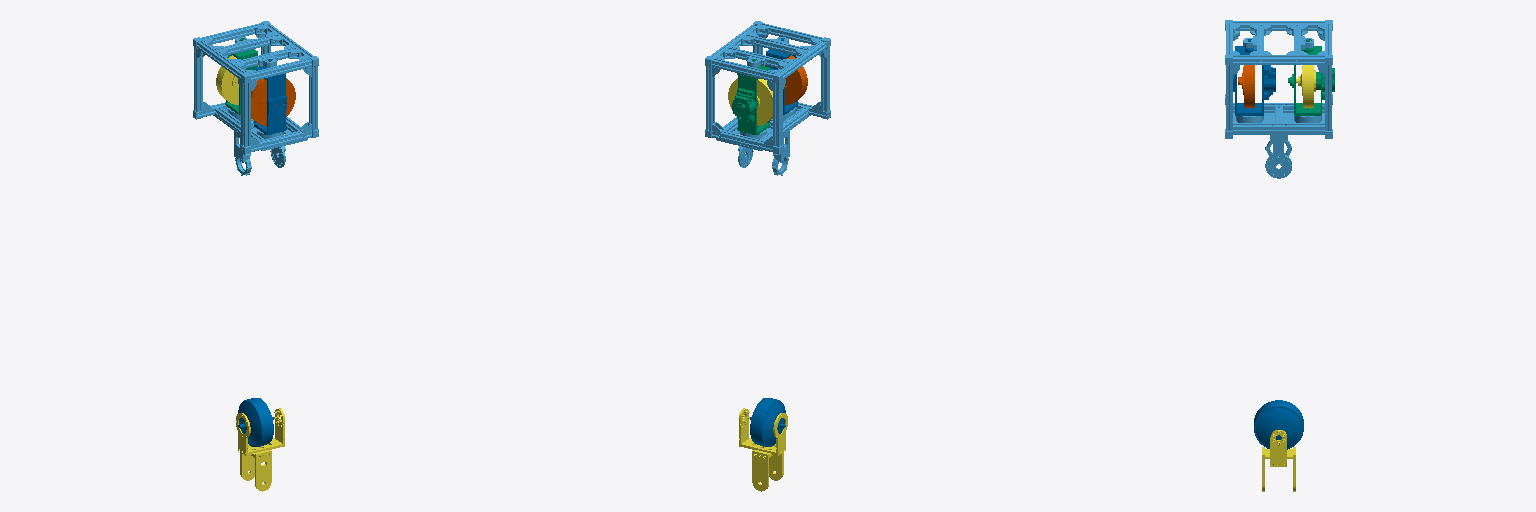
--- Render facts (derived) ---
Views: 3 orthographic renders of the robot side by side, from view 1: azimuth 30°, elevation 25°; view 2: azimuth 150°, elevation 25°; view 3: azimuth 270°, elevation 25°.
Model wheeled_inverted_pendulum with 13 links and 12 joints (8 revolute, 3 continuous, 1 fixed), rooted at cmg, posed every joint at zero.
Links seen in each view (by area): view 1: frame, ankle_to_wheel_link, wheel_link, Right_gimbal, Right_flywheel, Left_flywheel; view 2: frame, ankle_to_wheel_link, Left_gimbal, wheel_link, Left_flywheel, Right_flywheel; view 3: frame, wheel_link, Right_gimbal, ankle_to_wheel_link, Left_gimbal, Left_flywheel, Right_flywheel.
Link boxes in pixels (x1,y1,x2,y2): frame: (193, 21, 318, 175); ankle_to_wheel_link: (236, 408, 284, 491); wheel_link: (238, 398, 273, 446); Right_gimbal: (254, 59, 286, 134); Right_flywheel: (251, 78, 295, 125); Left_flywheel: (216, 55, 262, 104); frame: (705, 21, 830, 175); ankle_to_wheel_link: (739, 408, 787, 491); Left_gimbal: (732, 59, 769, 134); wheel_link: (750, 398, 785, 446); Left_flywheel: (728, 78, 772, 125); Right_flywheel: (761, 55, 807, 104); frame: (1225, 20, 1332, 178); wheel_link: (1254, 400, 1303, 449); Right_gimbal: (1233, 39, 1275, 115); ankle_to_wheel_link: (1262, 430, 1295, 491); Left_gimbal: (1288, 39, 1334, 115); Left_flywheel: (1296, 65, 1315, 107); Right_flywheel: (1238, 65, 1254, 107).
Bounding box of the posed robot: 0.2442 × 0.3 × 1.36 m (x, y, z).
Meshes: 12 distinct files referenced, 7 mesh visuals loaded (7 binary STL); not drawn: 5 (reference not matched to a file when rendering).

URDF robot description (wheeled_inverted_pendulum):
<?xml version="1.0"?>

<robot name="wheeled_inverted_pendulum">

        <link name="cmg">		    
		</link>

        <joint name="cmg_joint" type="fixed">
		    <origin xyz="0 0 1.114642" rpy="0.0 0.0 0.0" /> 
		    <parent link="cmg"/>
		    <child link="frame"/>
		</joint> 

        <link name="frame">
            <visual>
                <origin xyz="0.0 0 0" rpy="1.5708 0.0 0"/> <!--xyz="0.0 0.0 0.0" rpy="0 0.0 0" -->
                <geometry>
                    <mesh filename="package://cmg_robot_description/meshes/cmg_link.STL" scale="0.001 0.001 0.001"/>         
                </geometry>
                <material name=""/>
            </visual>

            <collision>
                <origin xyz="0 0 0" rpy="1.5708 0.0 0.0"/>
                <geometry>
                    <mesh filename="package://cmg_robot_description/meshes/cmg_link.STL" scale="0.001 0.001 0.001"/>
                </geometry>
            </collision>

            <inertial>
                <mass value="2.84" /> <!--20.781-->
                <origin xyz="0.0025633 1.1523E-05 -0.004142" rpy="1.5708 0.0 0"/>
                <inertia ixx="0.069831822" ixy="0.000002709"  ixz="0.001167158"  iyy="0.062838135"  iyz="0.000012214"  izz="0.037865996" />
            </inertial>
        </link>

<!-- ######################################################################################### -->

        <joint name="Left_gimbal_joint" type="revolute">
            <!-- <origin xyz="-0.000001 0.08 -0.0015" rpy="0 0 1.57"/> -->
            <origin xyz="0 0.08 0" rpy="0 0 0"/>
            <axis xyz="0 0 1" />
            <parent link="frame"/>
            <child link="Left_gimbal"/>            
            <limit effort="100" velocity="100" upper="0.785" lower="-0.785"/>
            <!-- <calibration falling="1.0"/> -->
            <joint_properties damping="1.0" friction="1.0"/>
        </joint>

<!-- ######################################################################################### -->

        <link name="Left_gimbal">
            <visual>
                <origin xyz="0.0 0.0 0.0" rpy="0 0.0 0"/> 
                <geometry>
                    <mesh filename="package://cmg_robot_description/meshes/left_gimbal_link.STL" scale="0.001 0.001 0.001"/>         
                </geometry>
                <material name=""/>
            </visual>
            <collision>
                <origin xyz="0 0 0" rpy="0.0 0.0 0.0"/>
                <geometry>
                    <mesh filename="package://cmg_robot_description/meshes/left_gimbal_link.STL" scale="0.001 0.001 0.001"/>        
                </geometry>
            </collision>
            <inertial>
                <mass value="1" />
                <origin xyz="0 0 0" />
                <inertia ixx="0.003773117" ixy="0" ixz="0" iyy="0.003989672" iyz="0" izz="0.00061837"/>
            </inertial>
        </link>

<!-- ######################################################################################### -->

         <joint name="Left_flywheel_joint" type="continuous">
            <origin xyz="0 0 0" rpy="0 0 0"/>
            <axis xyz="0 1 0" />
            <parent link="Left_gimbal"/>
            <child link="Left_flywheel"/>
            <limit effort="100" velocity="1000"/>
            <joint_properties damping="0.0" friction="0.0"/>
        </joint>

<!-- ######################################################################################### -->

        <link name="Left_flywheel">
            <visual>
                <origin xyz="0 0 0" rpy="0 0 0" />
                <geometry>
                    <mesh filename="package://cmg_robot_description/meshes/left_flywheel_link.STL" scale="0.001 0.001 0.001" />
                </geometry>
                <material name=""/>
            </visual>

            <collision>
                <geometry>
                    <mesh filename="package://cmg_robot_description/meshes/left_flywheel_link.STL" scale="0.001 0.001 0.001" />
                </geometry>
            </collision>

            <inertial>
                <mass value="4" />
                <origin xyz="0 0 0" />
                <inertia ixx="0.005950" ixy="0" ixz="0" iyy="0.011299999" iyz="0" izz="0.005950"/>
            </inertial>
        </link>

<!-- ######################################################################################### -->

        <joint name="Right_gimbal_joint" type="revolute">            
            <origin xyz="0 -0.08 0" rpy="0 0 0"/>
            <axis xyz="0 0 1" />
            <parent link="frame"/>
            <child link="Right_gimbal"/>            
            <limit effort="100" velocity="100" upper="0.785" lower="-0.785"/>
            <joint_properties damping="1.0" friction="1.0"/>
        </joint>

<!-- ######################################################################################### -->

        <link name="Right_gimbal">
            <visual>
                <origin xyz="0.0 0.0 0.0" rpy="0 0.0 0"/> 
                <geometry>
                    <mesh filename="package://cmg_robot_description/meshes/right_gimbal_link.STL" scale="0.001 0.001 0.001"/>         
                </geometry>
                <material name=""/>
            </visual>
            <collision>
                <origin xyz="0 0 0" rpy="0.0 0.0 0.0"/>
                <geometry>
                    <mesh filename="package://cmg_robot_description/meshes/right_gimbal_link.STL" scale="0.001 0.001 0.001"/>        
                </geometry>
            </collision>
            <inertial>
                <mass value="1" />
                <origin xyz="0 0 0" />
                <inertia ixx="0.003773117" ixy="0" ixz="0" iyy="0.003989672" iyz="0" izz="0.00061837"/>
            </inertial>
        </link>

<!-- ######################################################################################### -->

        <joint name="Right_flywheel_joint" type="continuous">
            <origin xyz="0 0 0" rpy="0 0 0"/>
            <axis xyz="0 1 0" />
            <parent link="Right_gimbal"/>
            <child link="Right_flywheel"/>
            <limit effort="100" velocity="1000"/>
            <joint_properties damping="0.0" friction="0.0"/>
        </joint>

<!-- ######################################################################################### -->

        <link name="Right_flywheel">
            <visual>
                <origin xyz="0 0 0" rpy="0 0 0" />
                <geometry>
                    <mesh filename="package://cmg_robot_description/meshes/right_flywheel_link.STL" scale="0.001 0.001 0.001" />
                </geometry>
                <material name=""/>
            </visual>

            <collision>
                <geometry>
                    <mesh filename="package://cmg_robot_description/meshes/right_flywheel_link.STL" scale="0.001 0.001 0.001" />
                </geometry>
            </collision>

            <inertial>
                <mass value="4" />
                <origin xyz="0 0 0" />
                <inertia ixx="0.005950" ixy="0" ixz="0" iyy="0.011299999" iyz="0" izz="0.005950"/>
            </inertial>
        </link>
        
<!-- ######################################################################################### -->

        <joint name="hip_roll_joint" type="revolute">
            <origin xyz="0 0 -0.221" rpy="0 0 0"/>
            <parent link="frame"/>
            <child link="hip_link"/>
            <axis xyz="1 0 0"/>
            <limit effort="100" velocity="100" upper="0.785" lower="-0.785"/>
            <joint_properties damping="1.0" friction="1.0"/>
        </joint>

        <link name="hip_link">
            <visual>
                <origin xyz="-0.042455 0 0" rpy="3.14 0 0"/> 
                <geometry>
                    <mesh filename="package://cmg_robot_description/meshes/hip_link.STL" scale="0.001 0.001 0.001"/>         
                </geometry>
                <material name=""/>
            </visual>

            <collision>
                <origin xyz="-0.042455 0 0" rpy="3.14 0 0"/>
                <geometry>
                    <!-- <box size = "  0.127 0.168778 0.958442 "/>                     -->
                    <mesh filename="package://cmg_robot_description/meshes/hip_link.STL" scale="0.001 0.001 0.001"/>
                </geometry>
            </collision>

            <inertial>
                <mass value="3.325" /> 
                <origin xyz="0.056364 0.0061248 0.011176" rpy="3.14 0.0 0"/>
                <inertia ixx="0.006208194" ixy="0.000396490"  ixz="-0.000685512"  iyy="0.006554912"  iyz="-0.000658520" izz="0.006773627" />
            </inertial>
        </link>

<!-- ######################################################################################### -->

        <joint name="hip_pitch_joint" type="revolute">
		    <!-- <origin xyz="0 -0.0045 -0.451221" rpy="0.0 0.0 0.0" />  -->
		    <origin xyz="0 0 0" rpy="0.0 0.0 0.0" /> 
            <axis xyz="0 1 0"/>
		    <parent link="hip_link"/>
		    <child link="hip_to_knee_link" />
            <limit effort="100" velocity="100" upper="0.785" lower="-0.785"/>
            <joint_properties damping="1.0" friction="1.0"/>
		</joint> 

        <link name="hip_to_knee_link">
            <visual>
                <origin xyz="0.0 0.0665 0" rpy="3.14 0 0"/> 
                <geometry>
                    <mesh filename="package://cmg_robot_description/meshes/hip_to_knee_link.STL" scale="0.001 0.001 0.001"/>         
                </geometry>
                <material name=""/>
                    
            </visual>

            <collision>
                <origin xyz="0 0.0665 0.0" rpy="3.14 0 0"/>
                <geometry>
                    <!-- <box size = "  0.127 0.168778 0.958442 "/>                     -->
                    <mesh filename="package://cmg_robot_description/meshes/hip_to_knee_link.STL" scale="0.001 0.001 0.001"/>
                </geometry>
            </collision>

            <inertial>
                <mass value="2.175" /> 
                <origin xyz="0.023173 0 -0.14958" rpy="3.14 0.0 0"/>
                <inertia ixx="0.007175717" ixy="0.000086944"  ixz="0.000249192"  iyy="0.006609551"  iyz="-0.000206119" izz="0.002458394" />
            </inertial>
        </link> 
<!-- ######################################################################################### -->

        <joint name="knee_joint" type="revolute">
		    <origin xyz="0 0 -0.28" rpy="0.0 0.0 0.0" /> 
            <axis xyz="0 1 0"/>
		    <parent link="hip_to_knee_link"/>
		    <child link="knee_ankle_link" />
            <limit effort="100" velocity="100" upper="0.785" lower="-0.785"/>
            <joint_properties damping="1.0" friction="1.0"/>
		</joint> 

        <link name="knee_ankle_link">
            <visual>
                <origin xyz="0.000045 -0.059 0" rpy="3.14 0 0"/> 
                <geometry>
                    <mesh filename="package://cmg_robot_description/meshes/knee_to_ankle_pitch_link.STL" scale="0.001 0.001 0.001"/>         
                </geometry>
                <material name=""/>
                    
            </visual>

            <collision>
                <origin xyz="0.000045 -0.059 0" rpy="3.14 0 0"/>
                <geometry>
                    <!-- <box size = "  0.127 0.168778 0.958442 "/>                     -->
                    <mesh filename="package://cmg_robot_description/meshes/knee_to_ankle_pitch_link.STL" scale="0.001 0.001 0.001"/>
                </geometry>
            </collision>

            <inertial>
                <mass value="1.231" /> 
                <origin xyz="0.015126 0 -0.12016" rpy="3.14 0.0 0"/>
                <inertia ixx="0.008859306" ixy="0.000111937"  ixz="0.000678647"  iyy="0.008343955"  iyz="-0.000413906" izz="0.002077894" />
            </inertial>
        </link> 
<!-- ######################################################################################### -->

        <joint name="ankle_pitch_joint" type="revolute">
		    <origin xyz="0 0 -0.279942" rpy="0.0 0.0 0.0" /> 
            <axis xyz="0 1 0"/>
		    <parent link="knee_ankle_link"/>
		    <child link="ankle_pitch_roll_link" />
            <limit effort="100" velocity="100" upper="0.785" lower="-0.785"/>
            <joint_properties damping="1.0" friction="1.0"/>
		</joint> 

        <link name="ankle_pitch_roll_link">
            <visual>
                <origin xyz="0.0 0.0 0.0" rpy="3.14 0 0"/> 
                <geometry>
                    <mesh filename="package://cmg_robot_description/meshes/ankle_roll_link.STL" scale="0.001 0.001 0.001"/>         
                </geometry>
                <material name=""/>
                    
            </visual>

            <collision>
                <origin xyz="0 0 0" rpy="3.14 0 0"/>
                <geometry>
                    <!-- <box size = "  0.127 0.168778 0.958442 "/>                     -->
                    <mesh filename="package://cmg_robot_description/meshes/ankle_roll_link.STL" scale="0.001 0.001 0.001"/>
                </geometry>
            </collision>

            <inertial>
                <mass value="2.386" /> 
                <origin xyz="0.014548 0.005687 -0.0068274" rpy="3.14 0.0 0"/>
                <inertia ixx="0.003950987" ixy="0.000238179"  ixz="0.000315902"  iyy="0.004226334"  iyz="0.000351372" izz="0.004633548" />
            </inertial>
        </link> 

        
<!-- ######################################################################################### -->

        <joint name="ankle_roll_joint" type="revolute">
		    <!-- <origin xyz="0 -0.0045 -0.451221" rpy="0.0 0.0 0.0" />  -->
		    <origin xyz="0 0 0" rpy="0.0 0.0 0.0" /> 
            <axis xyz="1 0 0"/>
		    <parent link="ankle_pitch_roll_link"/>
		    <child link="ankle_roll_yaw_link" />
            <limit effort="100" velocity="100" upper="0.785" lower="-0.785"/>
            <joint_properties damping="1.0" friction="1.0"/>
		</joint> 

        <link name="ankle_roll_yaw_link">
            <visual>
                <origin xyz="0.0825 0.0 0.0" rpy="3.14 0 0"/> 
                <geometry>
                    <mesh filename="package://cmg_robot_description/meshes/ankle_yaw_link.STL" scale="0.001 0.001 0.001"/>         
                </geometry>
                <material name=""/>
            </visual>

            <collision>
                <origin xyz="0.0825 0 0" rpy="3.14 0 0"/>
                <geometry>
                    <!-- <box size = "  0.127 0.168778 0.958442 "/>                     -->
                    <mesh filename="package://cmg_robot_description/meshes/ankle_yaw_link.STL" scale="0.001 0.001 0.001"/>
                </geometry>
            </collision>

            <inertial>
                <mass value="1.325" /> 
                <origin xyz="-0.027885 -7.8167E-05 -0.093558" rpy="1.57 0 1.57"/>
                <inertia ixx="0.004491154" ixy="0.000005564"  ixz="0.000003285"  iyy="0.002633972"  iyz="0.000397982" izz="0.002356447" />
            </inertial>
        </link> 

<!-- ######################################################################################### -->

        <joint name="ankle_yaw_joint" type="revolute">
		    <!-- <origin xyz="0 -0.0045 -0.451221" rpy="0.0 0.0 0.0" />  -->
		    <origin xyz="0 0 -0.1675" rpy="0.0 0.0 0.0" /> 
            <axis xyz="0 0 1"/>
		    <parent link="ankle_roll_yaw_link"/>
		    <child link="ankle_to_wheel_link" />
            <limit effort="100" velocity="100" upper="0.785" lower="-0.785"/>
            <joint_properties damping="1.0" friction="1.0"/>
		</joint> 

        <link name="ankle_to_wheel_link">
            <visual>
                <origin xyz="0.0 0.0 -0.09" rpy="0 0 0"/> 
                <geometry>
                    <mesh filename="package://cmg_robot_description/meshes/ankle_to_wheel_link.STL" scale="0.001 0.001 0.001"/>         
                </geometry>
                <material name=""/>
            </visual>

            <collision>
                <origin xyz="0 0 -0.09" rpy="0 0 0"/>
                <geometry>
                    <!-- <box size = "  0.127 0.168778 0.958442 "/>                     -->
                    <mesh filename="package://cmg_robot_description/meshes/ankle_to_wheel_link.STL" scale="0.001 0.001 0.001"/>
                </geometry>
            </collision>

            <inertial>
                <mass value="0.758" /> 
                <origin xyz="0 0 0" rpy="0.0 0.0 0"/>
                <inertia ixx="0.002298182" ixy="0.0"  ixz="0.0"  iyy="0.001121639"  iyz="-0.0" izz="0.001482959" />
            </inertial>
        </link>

<!-- ######################################################################################### -->

        <joint name="wheel_joint" type="continuous">
		    <!-- <origin xyz="0 -0.0045 -0.451221" rpy="0.0 0.0 0.0" />  -->
		    <origin xyz="0 0 -0.09" rpy="0.0 0.0 0.0" /> 
            <axis xyz="0 1 0"/>
		    <parent link="ankle_to_wheel_link"/>
		    <child link="wheel_link" />
            <limit effort="100" velocity="1000"/>
            <joint_properties damping="1.0" friction="1.0"/>
		</joint>

         <link name="wheel_link">
            <visual>
                <origin xyz="0.0 0.0 0.0" rpy="0 0.0 1.57"/> 
                <geometry>
                    <mesh filename="package://cmg_robot_description/meshes/wheel_link.STL" scale="0.001 0.001 0.001"/>         
                </geometry>
                <material name=""/>
            </visual>

            <collision>                
                <origin xyz="0 0 0" rpy="0 0.0 1.57"/>
                <geometry>
                    <mesh filename="package://cmg_robot_description/meshes/wheel_link.STL" scale="0.001 0.001 0.001"/>                 
                </geometry>
            </collision>

            <inertial>
                <mass value="2.0" />
                <origin xyz="0 0 0" />
                <inertia ixx="0.003623375" ixy="0.0" ixz="0.0" iyy="0.006512625" iyz="0.0" izz="0.003623375"/>
            </inertial>
        </link> 

<!-- ######################################################################################### -->

        <gazebo reference="frame">
            <mu1>1.0</mu1>
            <mu2>1.0</mu2> 
            <kp>1e+13</kp>
            <kd>1.0</kd>
            <maxVel>0.001</maxVel>
            <minDepth>0.00000000001</minDepth>
            <turnGravityOff>false</turnGravityOff>
            <gravity>1</gravity>
            <material>Gazebo/Grey</material>
        </gazebo>

        <gazebo reference="Left_gimbal">
            <mu1>1.0</mu1>
            <mu2>1.0</mu2> 
            <kp>1e+13</kp>
            <kd>1.0</kd>
            <maxVel>0.001</maxVel>
            <minDepth>0.00000000001</minDepth>
            <turnGravityOff>false</turnGravityOff>
            <gravity>1</gravity>
            <material>Gazebo/Grey</material>
        </gazebo>

        <gazebo reference="Left_flywheel">
            <mu1>1.0</mu1>
            <mu2>1.0</mu2> 
            <kp>1e+13</kp>
            <kd>1.0</kd>
            <maxVel>0.001</maxVel>
            <minDepth>0.00000000001</minDepth>
            <turnGravityOff>false</turnGravityOff>
            <gravity>1</gravity>
            <material>Gazebo/White</material>
        </gazebo>


        <gazebo reference="Right_gimbal">
            <mu1>1.0</mu1>
            <mu2>1.0</mu2> 
            <kp>1e+13</kp>
            <kd>1.0</kd>
            <maxVel>0.001</maxVel>
            <minDepth>0.00000000001</minDepth>
            <turnGravityOff>false</turnGravityOff>
            <gravity>1</gravity>
            <material>Gazebo/Grey</material>
        </gazebo>

        <gazebo reference="Right_flywheel">
            <mu1>1.0</mu1>
            <mu2>1.0</mu2> 
            <kp>1e+13</kp>
            <kd>1.0</kd>
            <maxVel>0.001</maxVel>
            <minDepth>0.00000000001</minDepth>
            <turnGravityOff>false</turnGravityOff>
            <gravity>1</gravity>
            <material>Gazebo/White</material>
        </gazebo>


<!-- ######################################################################################### -->

        <gazebo reference="hip_link">
            <mu1>1.0</mu1>
            <mu2>1.0</mu2> 
            <kp>1e+13</kp>
            <kd>1.0</kd>
            <maxVel>0.001</maxVel>
            <minDepth>0.00000000001</minDepth>
            <turnGravityOff>false</turnGravityOff>
            <gravity>1</gravity>
            <material>Gazebo/Grey</material>
        </gazebo>

        <gazebo reference="hip_to_knee_link">
            <mu1>1.0</mu1>
            <mu2>1.0</mu2> 
            <kp>1e+13</kp>
            <kd>1.0</kd>
            <maxVel>0.001</maxVel>
            <minDepth>0.00000000001</minDepth>
            <turnGravityOff>false</turnGravityOff>
            <gravity>1</gravity>
            <material>Gazebo/Grey</material>
        </gazebo>

        <gazebo reference="knee_ankle_link">
            <mu1>1.0</mu1>
            <mu2>1.0</mu2> 
            <kp>1e+13</kp>
            <kd>1.0</kd>
            <maxVel>0.001</maxVel>
            <minDepth>0.00000000001</minDepth>
            <turnGravityOff>false</turnGravityOff>
            <gravity>1</gravity>
            <material>Gazebo/Grey</material>
        </gazebo>

        <gazebo reference="ankle_pitch_roll_link">
            <mu1>1.0</mu1>
            <mu2>1.0</mu2> 
            <kp>1e+13</kp>
            <kd>1.0</kd>
            <maxVel>0.001</maxVel>
            <minDepth>0.00000000001</minDepth>
            <turnGravityOff>false</turnGravityOff>
            <gravity>1</gravity>
            <material>Gazebo/Grey</material>
        </gazebo>

        <gazebo reference="ankle_roll_yaw_link">
            <mu1>1.0</mu1>
            <mu2>1.0</mu2> 
            <kp>1e+13</kp>
            <kd>1.0</kd>
            <maxVel>0.001</maxVel>
            <minDepth>0.00000000001</minDepth>
            <turnGravityOff>false</turnGravityOff>
            <gravity>1</gravity>
            <material>Gazebo/Grey</material>
        </gazebo>

        <gazebo reference="ankle_to_wheel_link">
            <mu1>1.0</mu1>
            <mu2>1.0</mu2> 
            <kp>1e+13</kp>
            <kd>1.0</kd>
            <maxVel>0.001</maxVel>
            <minDepth>0.00000000001</minDepth>
            <turnGravityOff>false</turnGravityOff>
            <gravity>1</gravity>
            <material>Gazebo/Grey</material>
        </gazebo>

        <gazebo reference="wheel_link">
            <mu1>1.0</mu1>
            <mu2>1.0</mu2> 
            <kp>1e+13</kp>
            <kd>1.0</kd>
            <maxVel>0.001</maxVel>
            <minDepth>0.00000000001</minDepth>
            <turnGravityOff>false</turnGravityOff>
            <gravity>1</gravity>
            <material>Gazebo/White</material>
        </gazebo>


<!-- ######################################################################################### -->

        <gazebo>
            <plugin name="gazebo_ros_control" filename="libgazebo_ros_control.so">
                <controlPeriod>0.001</controlPeriod>
                <robotNamespace>/wheeled_inverted_pendulum</robotNamespace>
                <jointName> Left_flywheel_joint, Right_flywheel_joint, Left_gimbal_joint, Right_gimbal_joint, hip_roll_joint, hip_pitch_joint, knee_joint, ankle_pitch_joint, ankle_roll_joint, ankle_yaw_joint, wheel_joint </jointName>
                <robotSimType>gazebo_ros_control/DefaultRobotHWSim</robotSimType>
                <legacyModeNS>true</legacyModeNS>
            </plugin>
        </gazebo>

        <transmission name="Left_flywheel_trans">
            <type>transmission_interface/SimpleTransmission</type>
            <joint name="Left_flywheel_joint" >
                <hardwareInterface>hardware_interface/VelocityJointInterface</hardwareInterface>
            </joint>
            <actuator name="Left_flywheel_motor">
                <hardwareInterface>hardware_interface/VelocityJointInterface</hardwareInterface>
                <mechanicalReduction>1</mechanicalReduction>
            </actuator>
        </transmission>

        <transmission name="Left_gimbal_trans">
            <type>transmission_interface/SimpleTransmission</type>
            <joint name="Left_gimbal_joint" >
                <hardwareInterface>hardware_interface/EffortJointInterface</hardwareInterface>
            </joint>
            <actuator name="Left_gimbal_motor">
                <hardwareInterface>hardware_interface/EffortJointInterface</hardwareInterface>
                <mechanicalReduction>1</mechanicalReduction>
            </actuator>
        </transmission>


        <transmission name="Right_flywheel_trans">
            <type>transmission_interface/SimpleTransmission</type>
            <joint name="Right_flywheel_joint" >
                <hardwareInterface>hardware_interface/VelocityJointInterface</hardwareInterface>
            </joint>
            <actuator name="Right_flywheel_motor">
                <hardwareInterface>hardware_interface/VelocityJointInterface</hardwareInterface>
                <mechanicalReduction>1</mechanicalReduction>
            </actuator>
        </transmission>

        <transmission name="Right_gimbal_trans">
            <type>transmission_interface/SimpleTransmission</type>
            <joint name="Right_gimbal_joint" >
                <hardwareInterface>hardware_interface/EffortJointInterface</hardwareInterface>
            </joint>
            <actuator name="Right_gimbal_motor">
                <hardwareInterface>hardware_interface/EffortJointInterface</hardwareInterface>
                <mechanicalReduction>1</mechanicalReduction>
            </actuator>
        </transmission>

<!-- ######################################################################################### -->

        <transmission name="hip_roll_trans">
            <type>transmission_interface/SimpleTransmission</type>
            <joint name="hip_roll_joint" >
                <hardwareInterface>hardware_interface/PositionJointInterface</hardwareInterface>
            </joint>
            <actuator name="hip_roll_motor">
                <hardwareInterface>hardware_interface/PositionJointInterface</hardwareInterface>
                <mechanicalReduction>1</mechanicalReduction>
            </actuator>
        </transmission>

        <transmission name="hip_pitch_trans">
            <type>transmission_interface/SimpleTransmission</type>
            <joint name="hip_pitch_joint" >
                <hardwareInterface>hardware_interface/PositionJointInterface</hardwareInterface>
            </joint>
            <actuator name="hip_pitch_motor">
                <hardwareInterface>hardware_interface/PositionJointInterface</hardwareInterface>
                <mechanicalReduction>1</mechanicalReduction>
            </actuator>
        </transmission>


        <transmission name="knee_trans">
            <type>transmission_interface/SimpleTransmission</type>
            <joint name="knee_joint" >
                <hardwareInterface>hardware_interface/PositionJointInterface</hardwareInterface>
            </joint>
            <actuator name="knee_motor">
                <hardwareInterface>hardware_interface/PositionJointInterface</hardwareInterface>
                <mechanicalReduction>1</mechanicalReduction>
            </actuator>
        </transmission>

        <transmission name="ankle_pitch_trans">
            <type>transmission_interface/SimpleTransmission</type>
            <joint name="ankle_pitch_joint" >
                <hardwareInterface>hardware_interface/PositionJointInterface</hardwareInterface>
            </joint>
            <actuator name="ankle_pitch_motor">
                <hardwareInterface>hardware_interface/PositionJointInterface</hardwareInterface>
                <mechanicalReduction>1</mechanicalReduction>
            </actuator>
        </transmission>

        <transmission name="ankle_roll_trans">
            <type>transmission_interface/SimpleTransmission</type>
            <joint name="ankle_roll_joint" >
                <hardwareInterface>hardware_interface/PositionJointInterface</hardwareInterface>
            </joint>
            <actuator name="ankle_roll_motor">
                <hardwareInterface>hardware_interface/PositionJointInterface</hardwareInterface>
                <mechanicalReduction>1</mechanicalReduction>
            </actuator>
        </transmission>

        <transmission name="ankle_yaw_trans">
            <type>transmission_interface/SimpleTransmission</type>
            <joint name="ankle_yaw_joint" >
                <hardwareInterface>hardware_interface/PositionJointInterface</hardwareInterface>
            </joint>
            <actuator name="ankle_yaw_motor">
                <hardwareInterface>hardware_interface/PositionJointInterface</hardwareInterface>
                <mechanicalReduction>1</mechanicalReduction>
            </actuator>
        </transmission>

        <transmission name="wheel_trans">
            <type>transmission_interface/SimpleTransmission</type>
            <joint name="wheel_joint" >
                <hardwareInterface>hardware_interface/EffortJointInterface</hardwareInterface>
            </joint>
            <actuator name="wheel_motor">
                <hardwareInterface>hardware_interface/EffortJointInterface</hardwareInterface>
                <mechanicalReduction>1</mechanicalReduction>
            </actuator>
        </transmission>

<!-- EffortJointInterface
PositionJointInterface
VelocityJointInterface -->

</robot>
